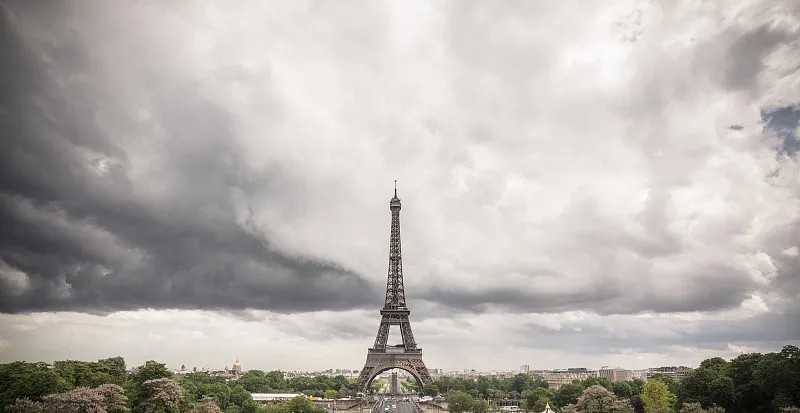Eiffel: (354, 180, 433, 395)
